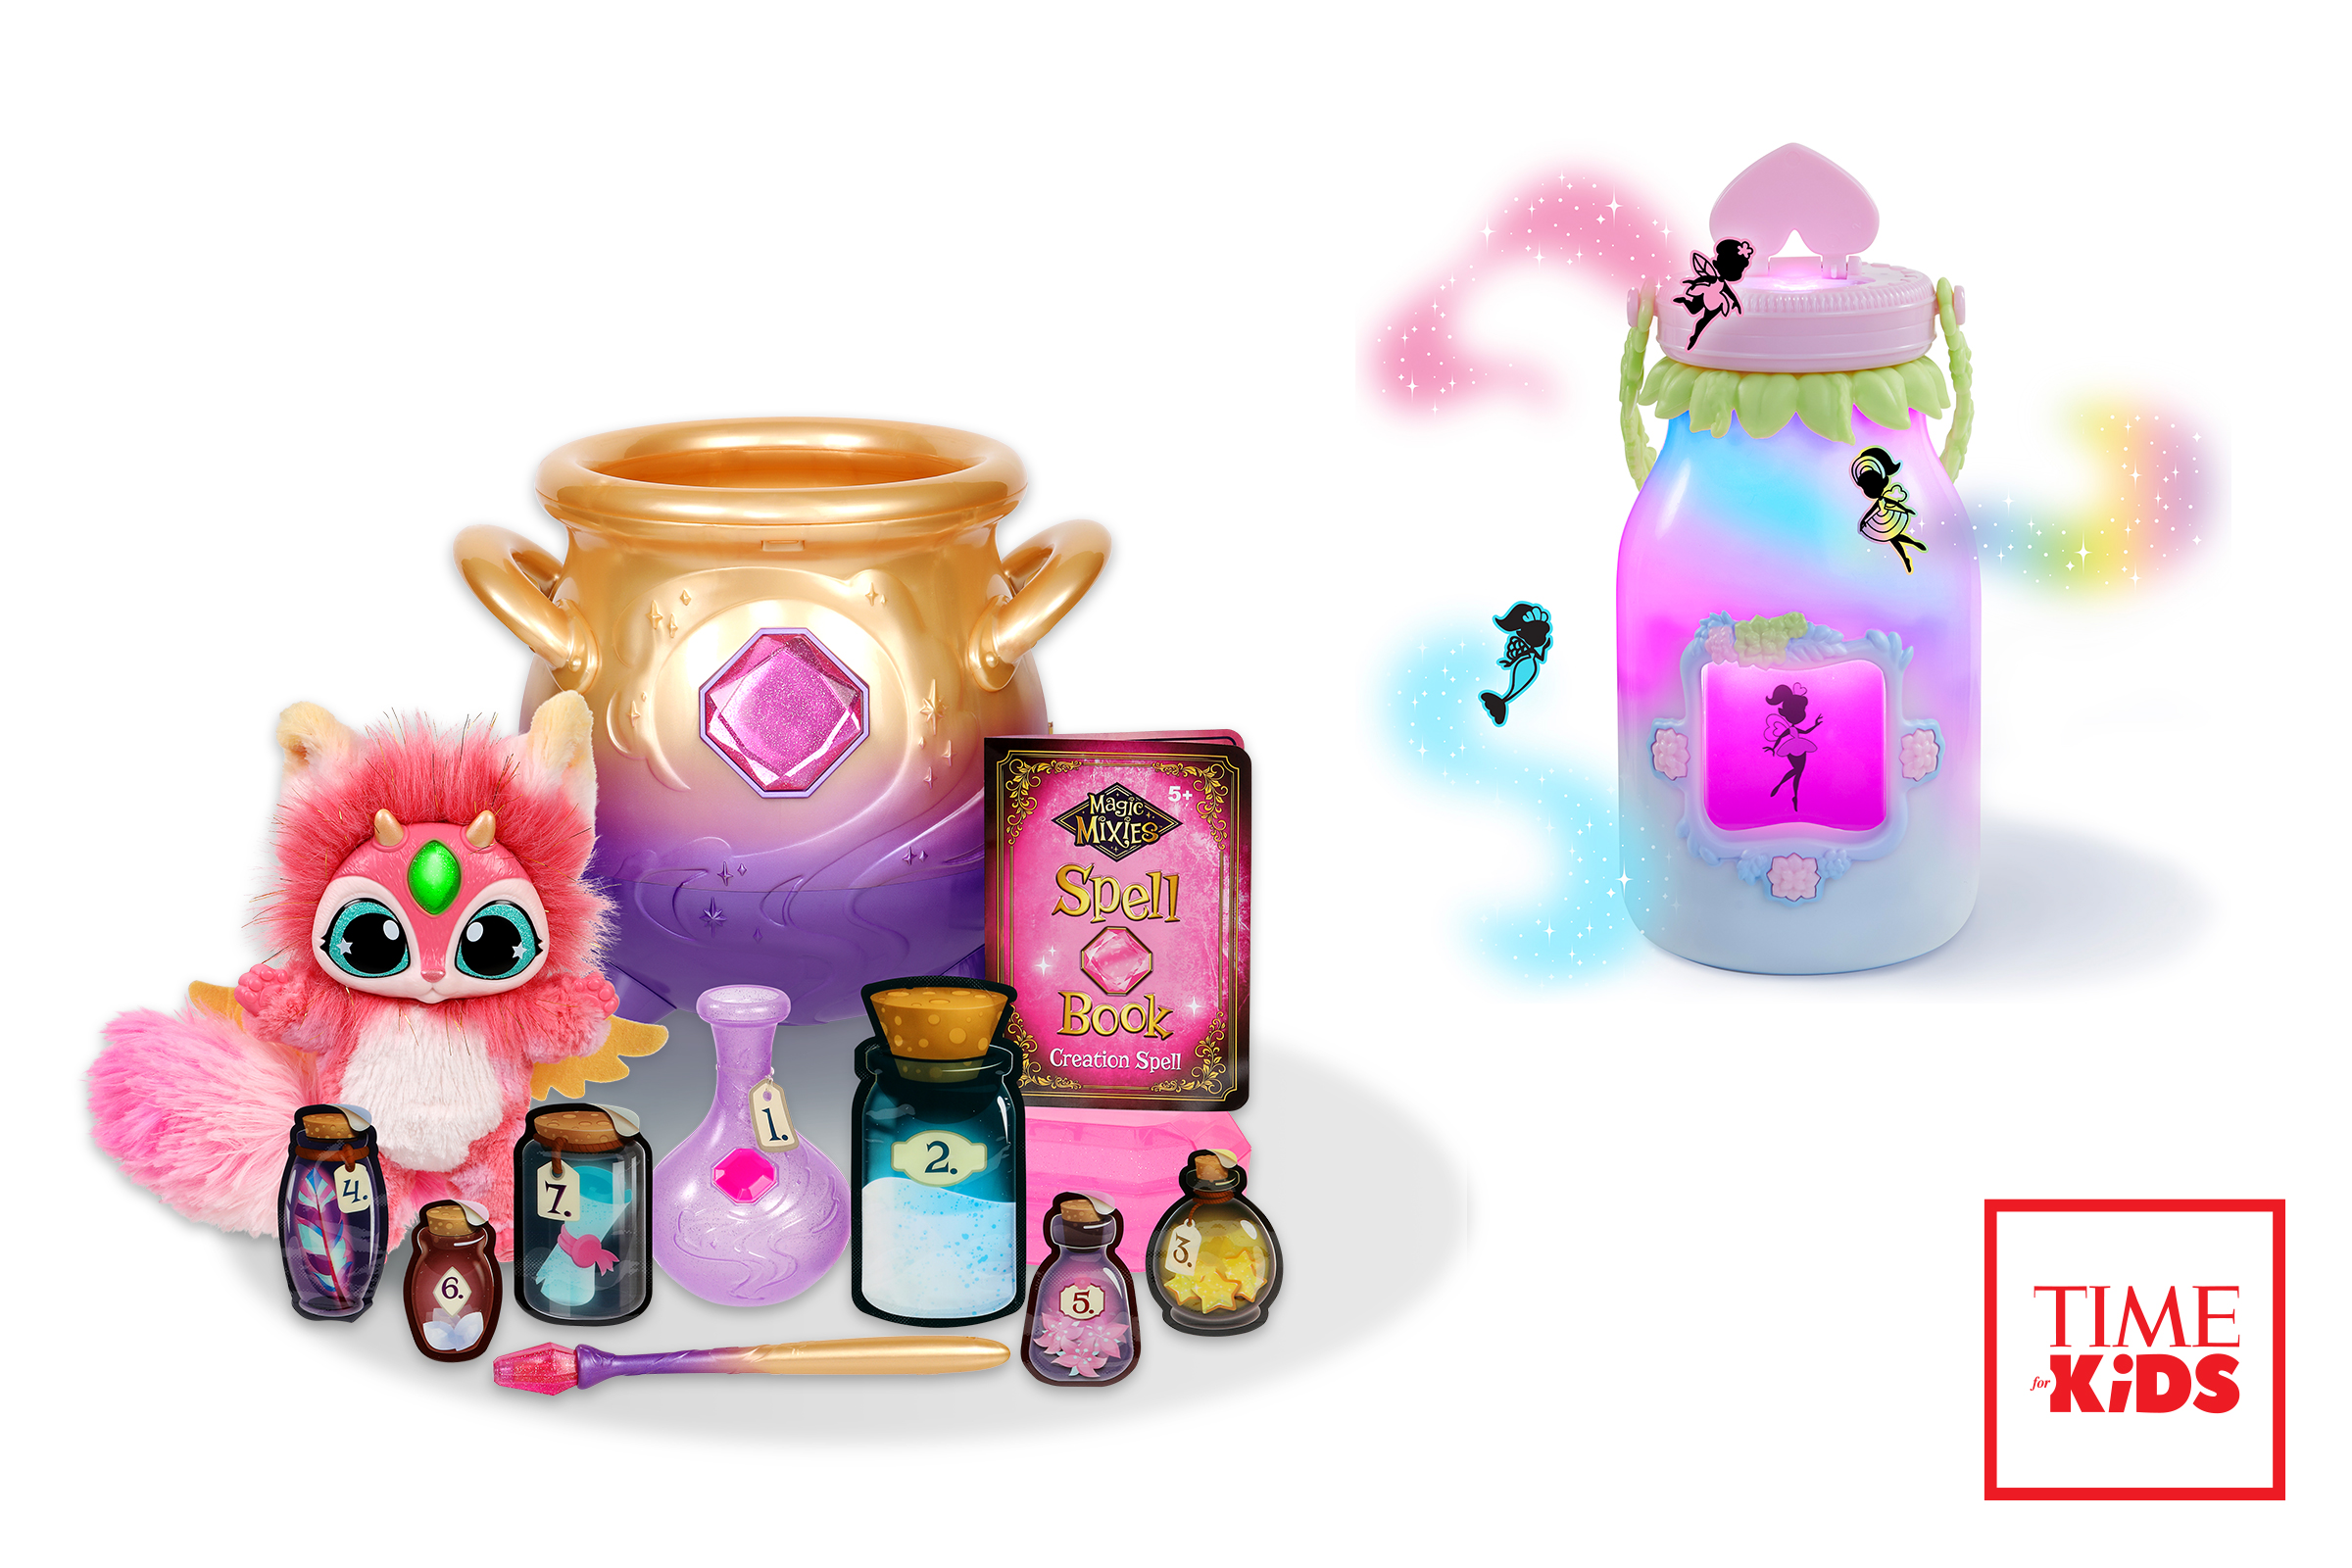toy: (42, 259, 1466, 1437)
